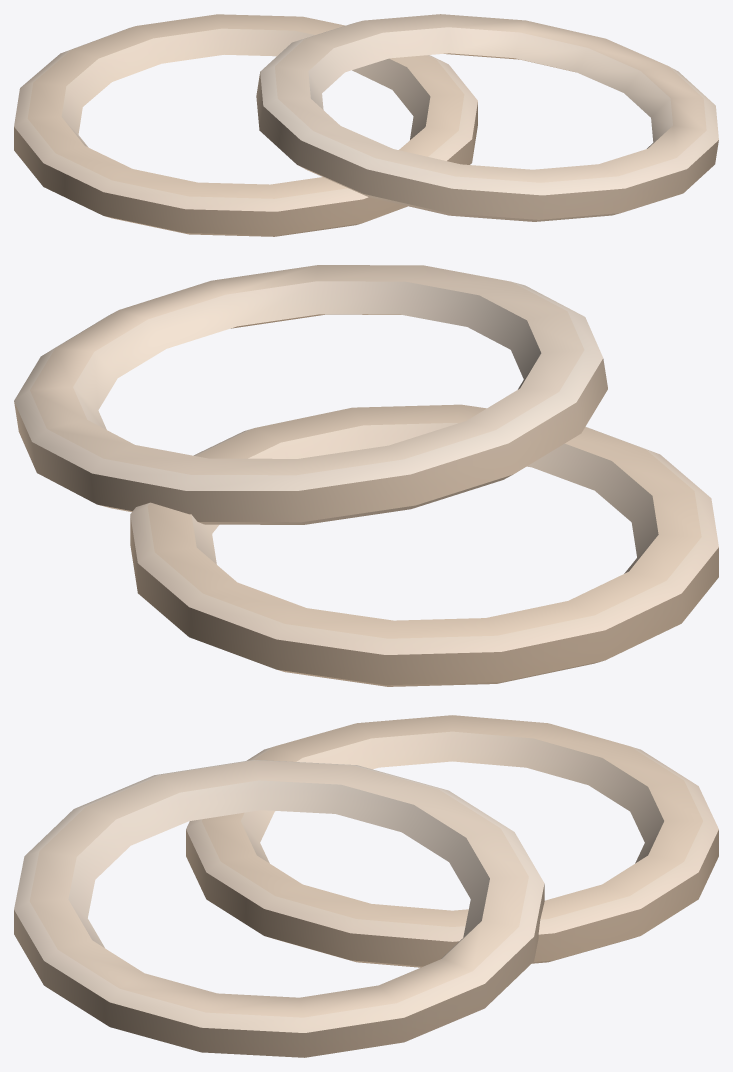
Rendered from onion.glb.
3 renders of one model, top to bottom at view 1: azimuth 30°, elevation 25°; view 2: azimuth 150°, elevation 25°; view 3: azimuth 270°, elevation 25°, orthographic. The views are drawn at different scales.
Parts seen in each view (by area): view 1: food_ingredient_onion_rings; view 2: food_ingredient_onion_rings; view 3: food_ingredient_onion_rings.
Part boxes in pixels (x1=…): food_ingredient_onion_rings: x1=14, y1=14, x2=718, y2=236; food_ingredient_onion_rings: x1=14, y1=265, x2=718, y2=686; food_ingredient_onion_rings: x1=14, y1=715, x2=718, y2=1057.
Bounding box in the file's own units: 0.7758 × 0.1064 × 0.7296.
Materials: 1 (1 with a texture image).
